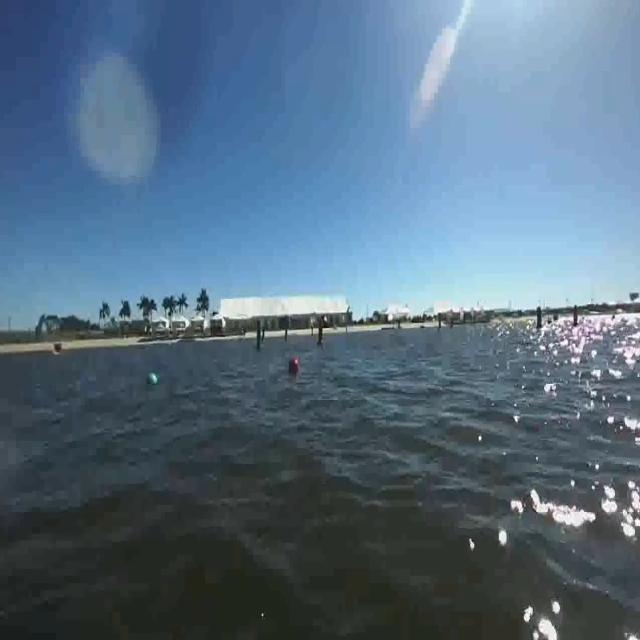green-buoy: (146, 373, 158, 389)
green-column-buoy: (255, 322, 264, 352)
red-buoy: (289, 357, 299, 372)
